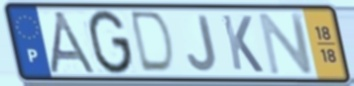A: (47, 9, 102, 76)
D: (129, 9, 177, 77)
G: (86, 8, 135, 77)
J: (185, 13, 219, 74)
K: (219, 13, 266, 75)
N: (256, 11, 317, 77)
